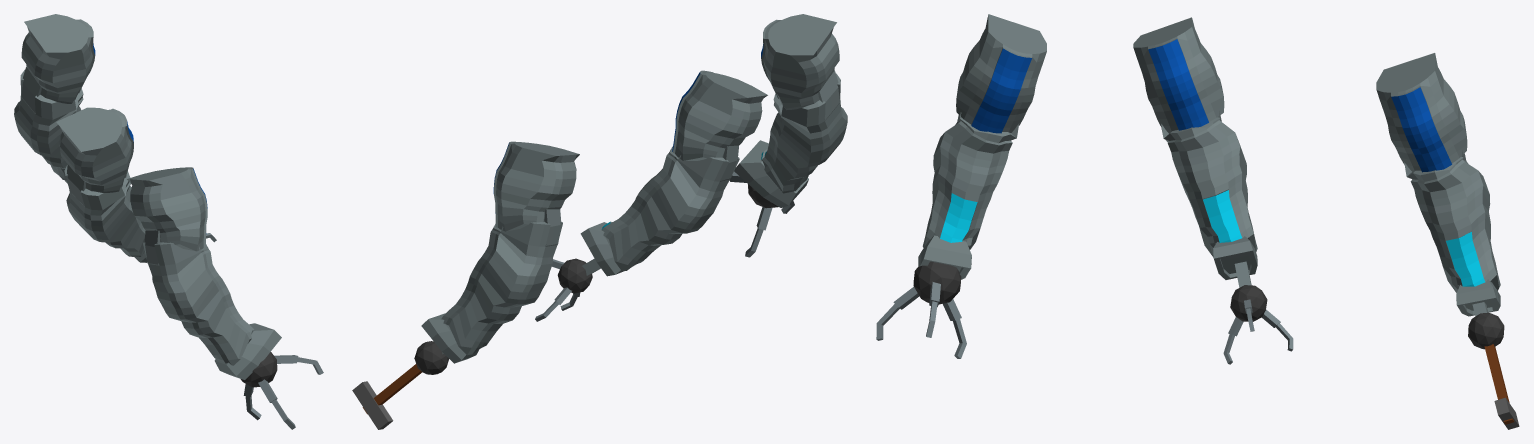
Rendered from arm_2.fbx.
The picture shows the model from 3 angles, left to right: view 1: azimuth 30°, elevation 25°; view 2: azimuth 150°, elevation 25°; view 3: azimuth 270°, elevation 25°; orthographic projection. The views are drawn at different scales.
Parts seen in each view (by area): view 1: Cube.011, Sphere.002, Sphere.001, Sphere, Cube.002, Cube.001, Cube.012, Cube.021, Cube.018, Cube.020; view 2: Cube.001, Cube.002, Sphere, Cube.011, Sphere.001, Sphere.002, Cube.012, Cube.009, Cube.010, Cube.017, Cube.003, Cube.008; view 3: Cube.001, Sphere.001, Sphere.002, Cube.002, Cube.011, Sphere, Cube.021, Cube.012, Cube.003, Cube.017, Cube.008, Cube.009 (+2 smaller).
Boxes of the visible parts, left/top/right/bottom form: Cube.011: left=143, top=230, right=253, bottom=365; Sphere.002: left=127, top=167, right=207, bottom=251; Sphere.001: left=21, top=14, right=95, bottom=103; Sphere: left=56, top=107, right=133, bottom=192; Cube.002: left=64, top=164, right=145, bottom=256; Cube.001: left=14, top=66, right=83, bottom=180; Cube.012: left=214, top=323, right=281, bottom=379; Cube.021: left=240, top=352, right=277, bottom=387; Cube.018: left=258, top=379, right=295, bottom=429; Cube.020: left=274, top=355, right=323, bottom=374; Cube.001: left=441, top=209, right=562, bottom=355; Cube.002: left=601, top=145, right=739, bottom=271; Sphere: left=672, top=70, right=767, bottom=160; Cube.011: left=761, top=70, right=847, bottom=193; Sphere.001: left=493, top=141, right=579, bottom=231; Sphere.002: left=761, top=14, right=839, bottom=110; Cube.012: left=734, top=140, right=808, bottom=207; Cube.009: left=352, top=364, right=422, bottom=429; Cube.010: left=421, top=313, right=478, bottom=363; Cube.017: left=557, top=258, right=600, bottom=293; Cube.003: left=580, top=222, right=624, bottom=276; Cube.008: left=414, top=341, right=448, bottom=374; Cube.001: left=1404, top=150, right=1500, bottom=292; Sphere.001: left=1376, top=53, right=1467, bottom=172; Sphere.002: left=956, top=14, right=1046, bottom=133; Cube.002: left=1161, top=111, right=1257, bottom=256; Cube.011: left=922, top=112, right=1019, bottom=249; Sphere: left=1133, top=17, right=1224, bottom=133; Cube.021: left=913, top=261, right=961, bottom=304; Cube.012: left=918, top=235, right=971, bottom=279; Cube.003: left=1213, top=236, right=1257, bottom=279; Cube.017: left=1230, top=261, right=1267, bottom=321; Cube.008: left=1468, top=302, right=1504, bottom=349; Cube.009: left=1484, top=344, right=1519, bottom=429.
Size of the model in its own units: 65.82 by 71.97 by 137.
